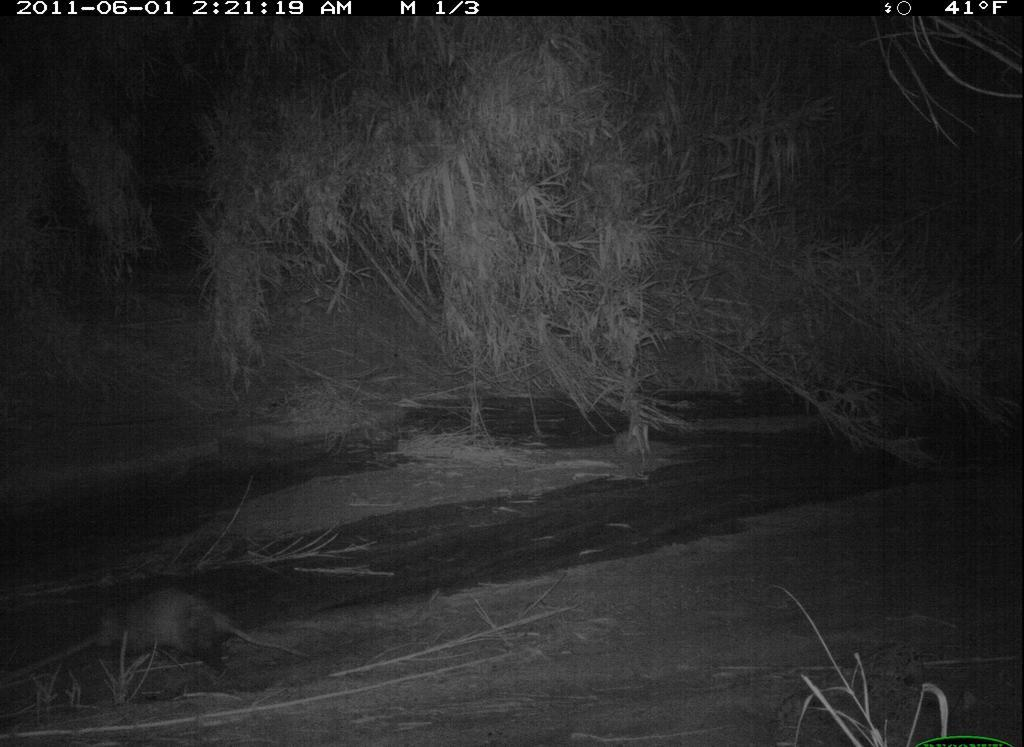opossum: (73, 577, 311, 676)
